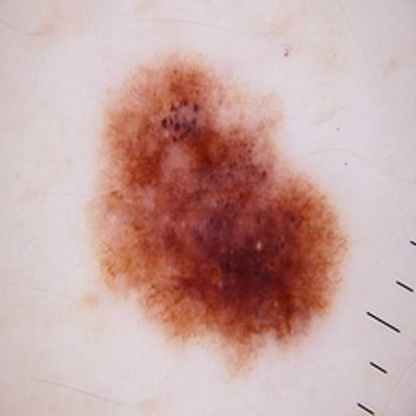malignant: (113, 90, 324, 331)
